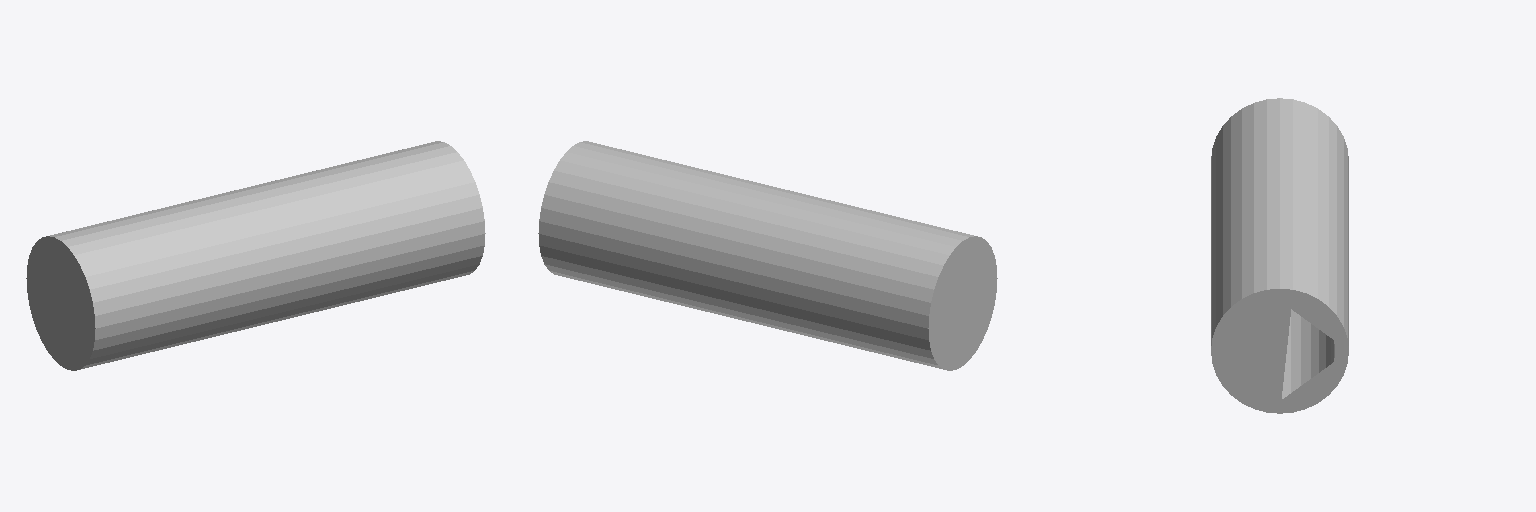
Rendered from CanGun.obj.
3 renders of one model, left to right at view 1: azimuth 30°, elevation 25°; view 2: azimuth 150°, elevation 25°; view 3: azimuth 270°, elevation 25°, orthographic.
Visible parts, largest first — view 1: Cylinder.001; view 2: Cylinder.001; view 3: Cylinder.001.
Boxes of the visible parts, box(x1,y1,x2,y2) form: Cylinder.001: box(26, 141, 485, 370); Cylinder.001: box(538, 141, 997, 370); Cylinder.001: box(1211, 98, 1348, 413).
Size of the model in its own units: 0.9302 by 0.2853 by 0.2853.